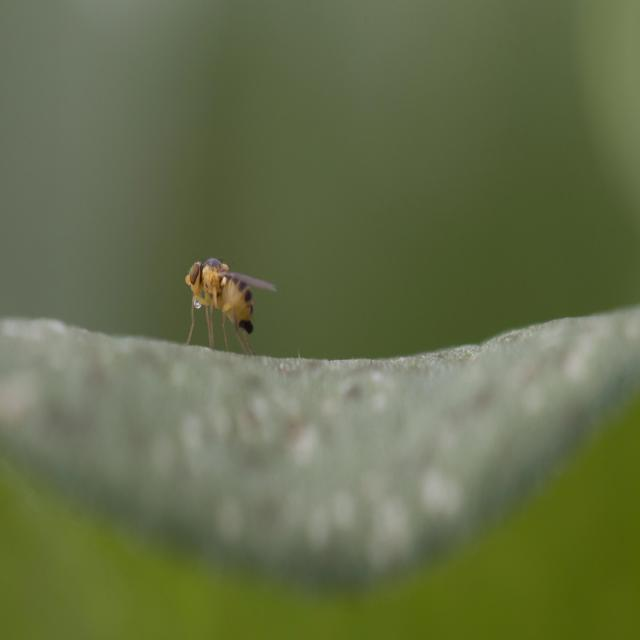Serpentine leafminer: (181, 255, 285, 355)
